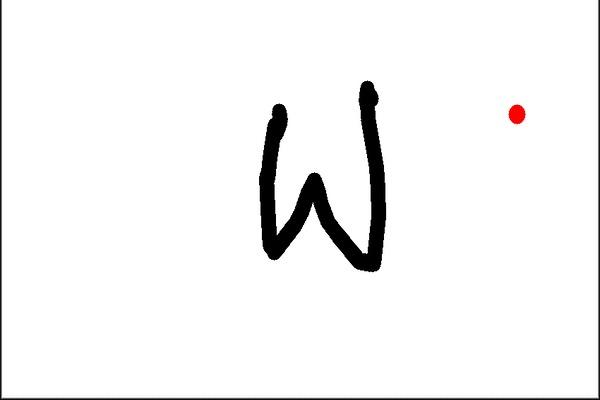w: (244, 68, 404, 292)
